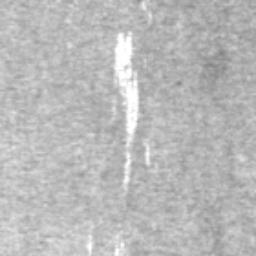White rust: (110, 31, 139, 189), (140, 1, 153, 26), (85, 223, 93, 256), (142, 141, 150, 167)
